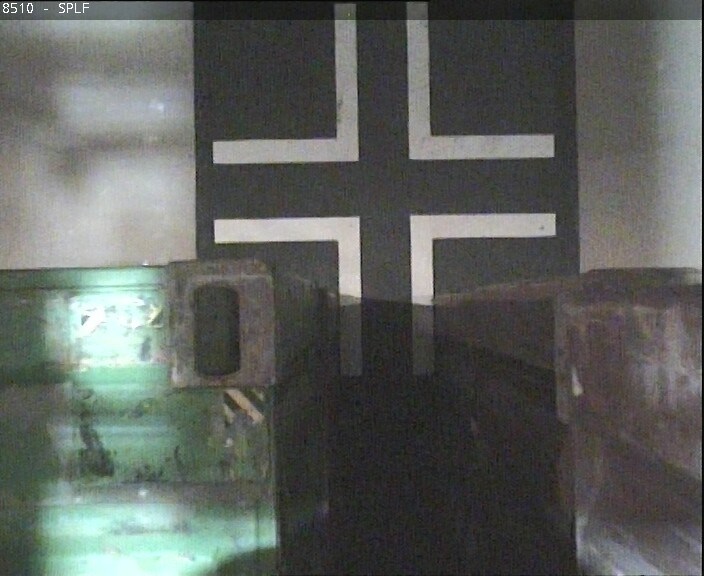groundmarker_1: (215, 212, 556, 372), (212, 5, 553, 165)
